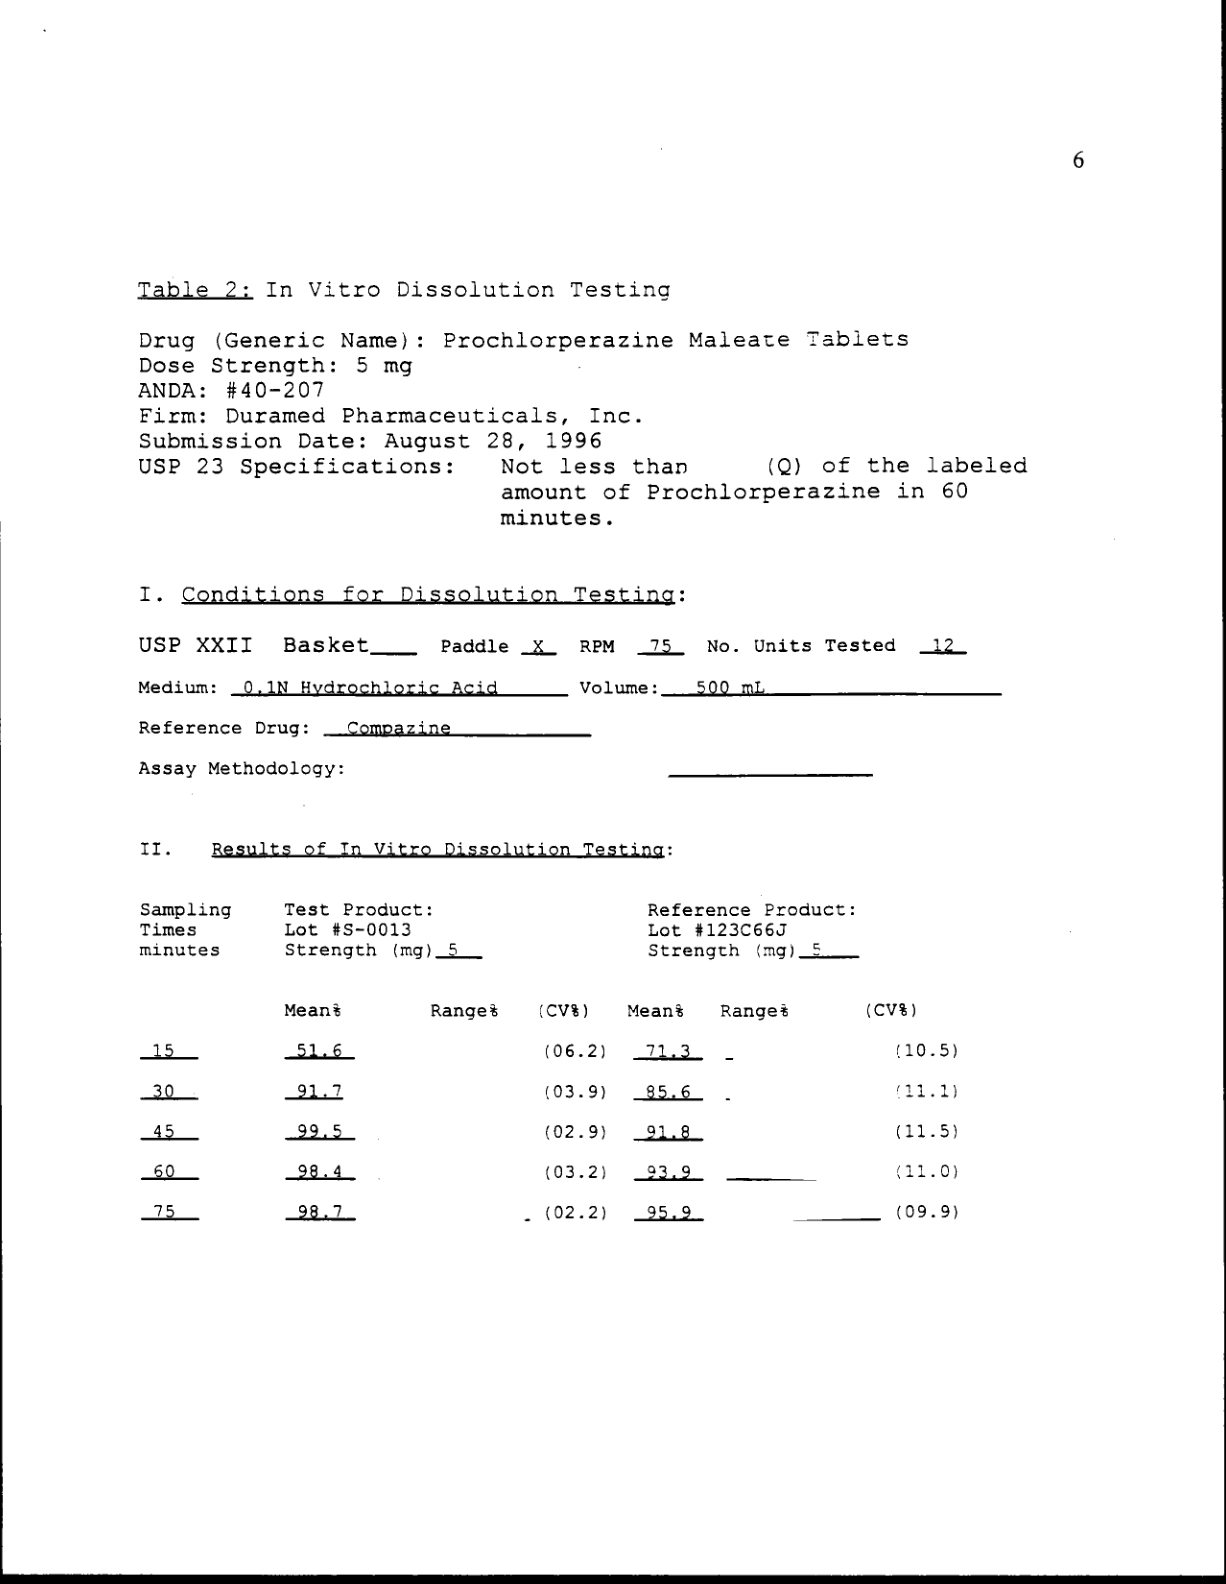nolines: (135, 998, 957, 1230), (138, 897, 865, 962)
